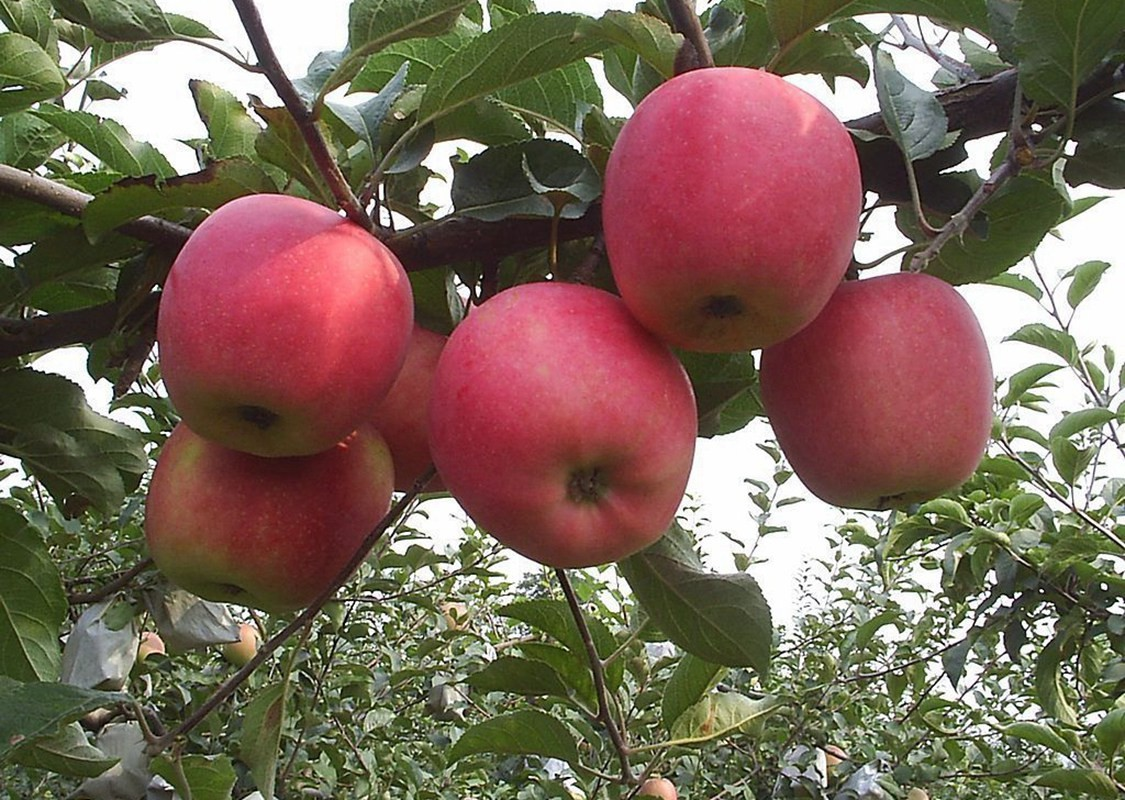apple: (426, 279, 700, 569), (594, 69, 862, 355), (155, 191, 414, 456), (759, 269, 996, 512)
obscured(1)_apple: (127, 411, 396, 611)
